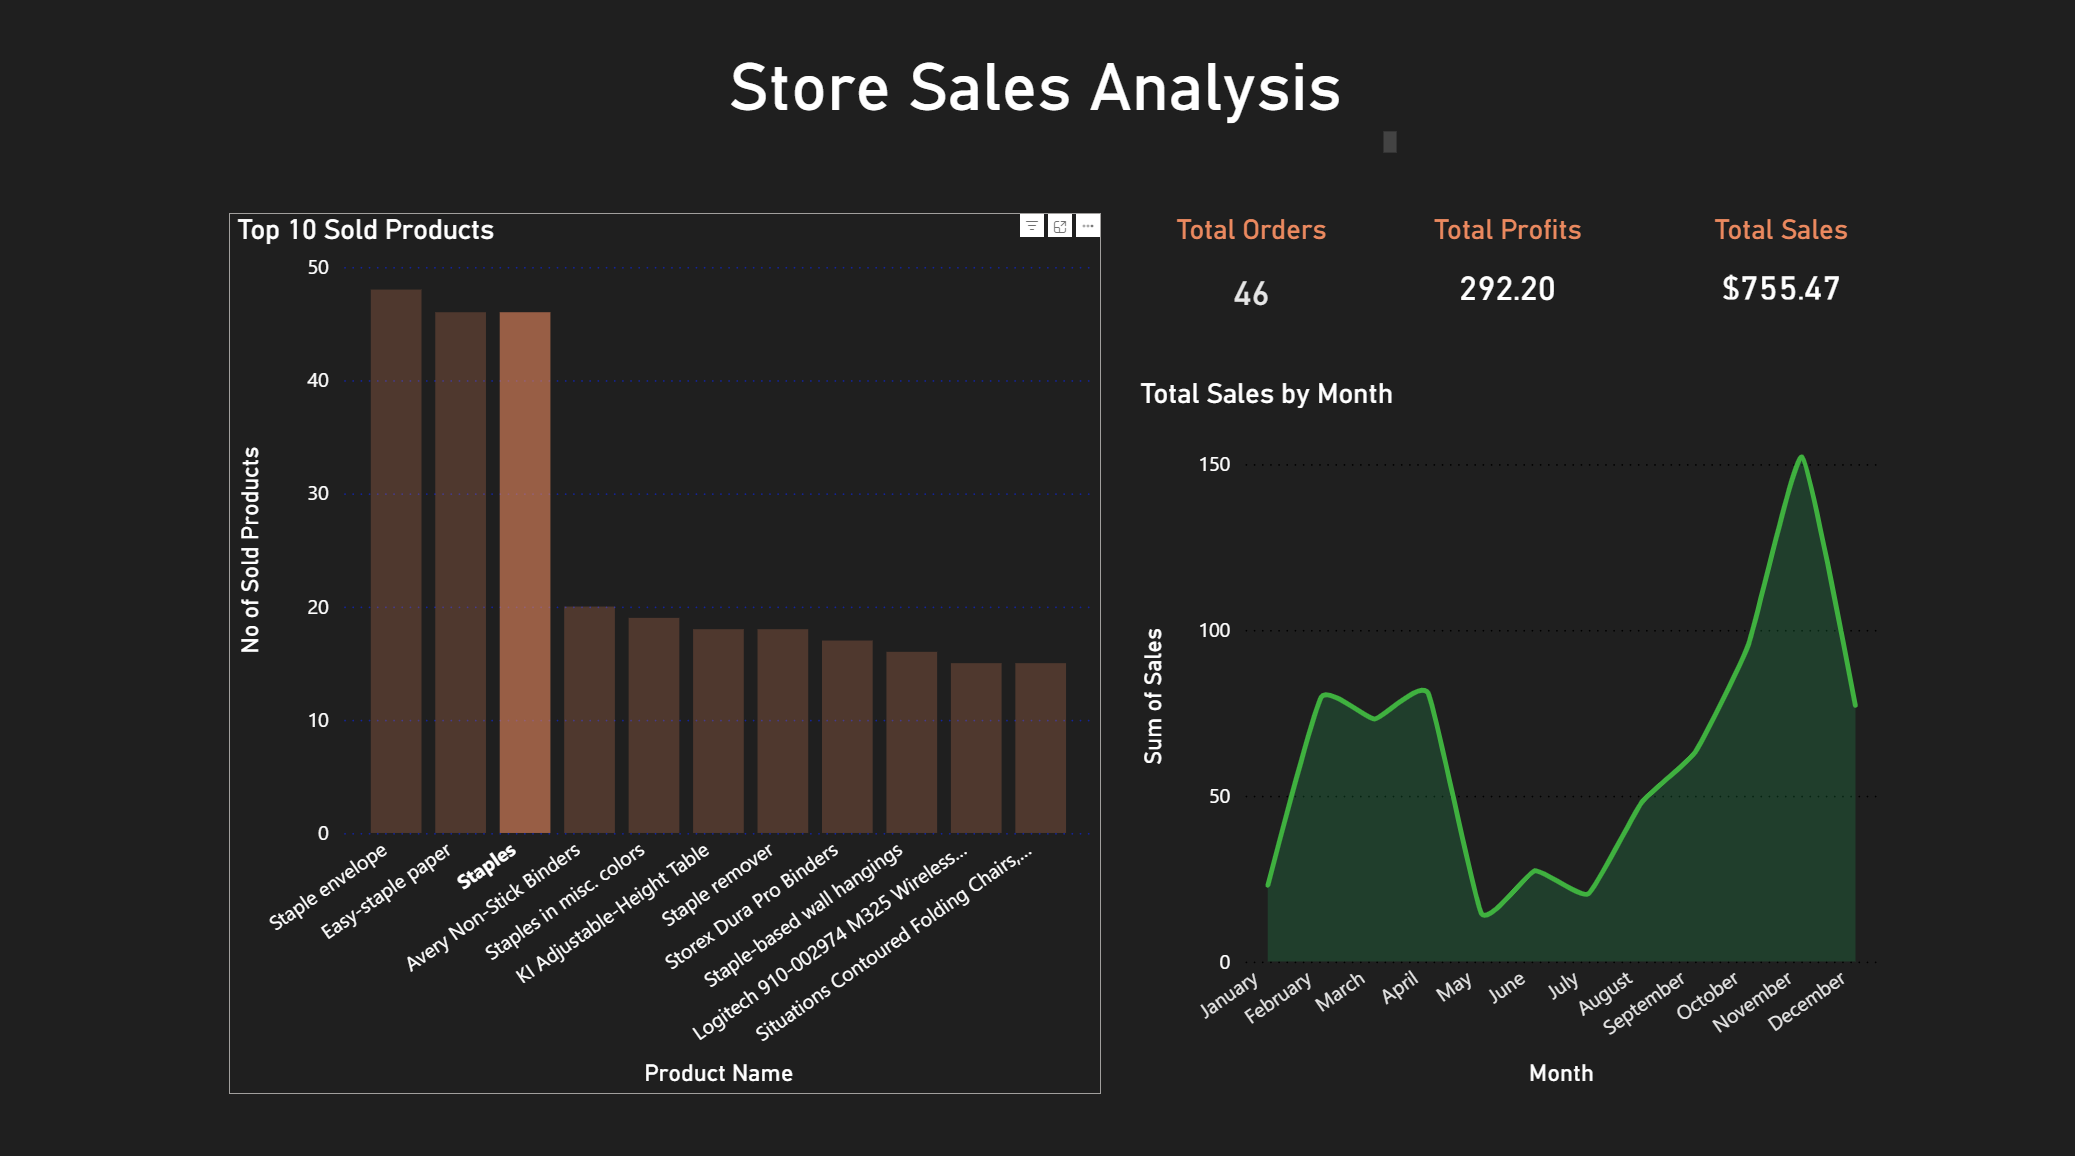

What the dashboard file says about the page in this screenshot:
{"tool":"powerbi","page":{"name":"KPI","canvas":[1280,720],"ordinal":0},"visuals":[{"type":"lineChart","title":"Total Sales by Month","fields":{"Category":["Sample - Superstore.order_date.Variation.Date Hierarchy.Year","Sample - Superstore.order_date.Variation.Date Hierarchy.Quarter","Sample - Superstore.order_date.Variation.Date Hierarchy.Month","Sample - Superstore.order_date.Variation.Date Hierarchy.Day"],"Y":["Sum(Sample - Superstore.Sales)"]},"box":[699.5,238.8,460.7,438.7],"z":0},{"type":"lineStackedColumnComboChart","title":"Top 10 Sold Products","fields":{"Category":["Sample - Superstore.Product Name"],"Y":["CountNonNull(Sample - Superstore.Sales)"]},"box":[147,138.1,533.5,539.3],"z":1000},{"type":"cardVisual","title":"Total Sales","fields":{"Data":["Sample - Superstore.Total_sales"]},"box":[1014.8,138,164.1,65.6],"z":2000},{"type":"textbox","title":"Store Sales Analysis","box":[413.9,37.5,452.1,69],"z":3000},{"type":"cardVisual","title":"Total Profits","fields":{"Data":["Sample - Superstore.Total_profits"]},"box":[856.7,138,145.3,70.3],"z":4000},{"type":"cardVisual","title":"Total Orders","fields":{"Data":["Sample - Superstore.Total_Orders"]},"box":[699.3,138,146,70.3],"z":5000}]}

Visuals, with their boxes in screenshot pixels (x1, y1, x2, y2), scaled from the page's 1280x720 canvas onto the 2075x1156 screenshot:
"Total Sales by Month" lineChart: bbox(1134, 383, 1881, 1088)
"Top 10 Sold Products" lineStackedColumnComboChart: bbox(238, 222, 1103, 1088)
"Total Sales" cardVisual: bbox(1645, 222, 1911, 327)
"Store Sales Analysis" textbox: bbox(671, 60, 1404, 171)
"Total Profits" cardVisual: bbox(1389, 222, 1624, 334)
"Total Orders" cardVisual: bbox(1134, 222, 1370, 334)
